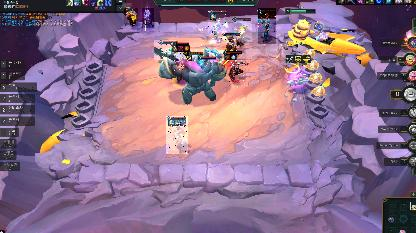1_bard: (222, 34, 242, 52), (124, 8, 138, 26)
1_yasuo: (142, 8, 154, 28)
2_kaisa: (258, 8, 276, 44)
2_malphite: (154, 40, 176, 60)
2_nilah: (166, 116, 188, 154)
2_rakan: (224, 52, 246, 82)
2_soraka: (208, 10, 226, 42)
2_yasuo: (171, 42, 189, 84)
2_zeri: (234, 18, 252, 42)
